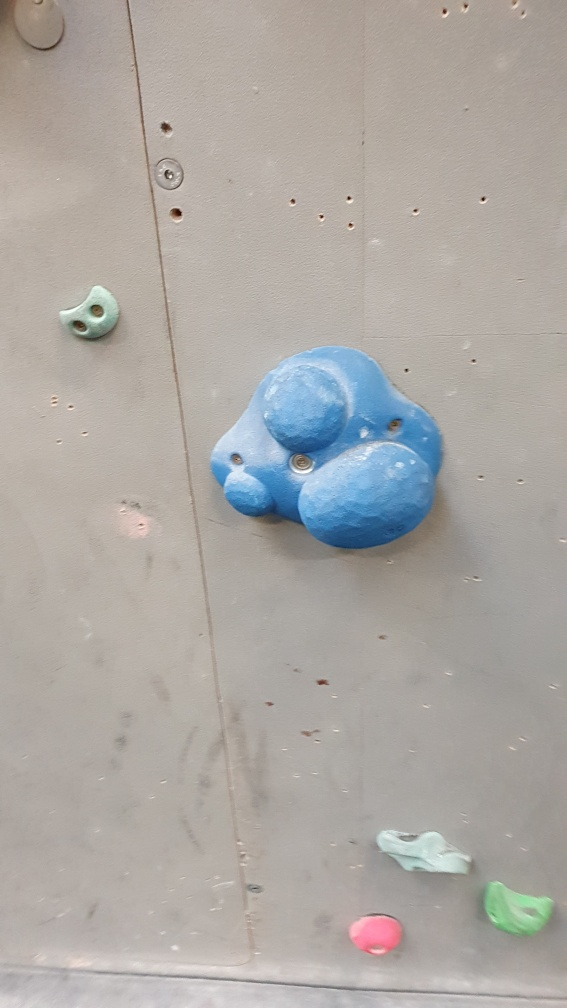Sloper: (206, 345, 445, 551)
